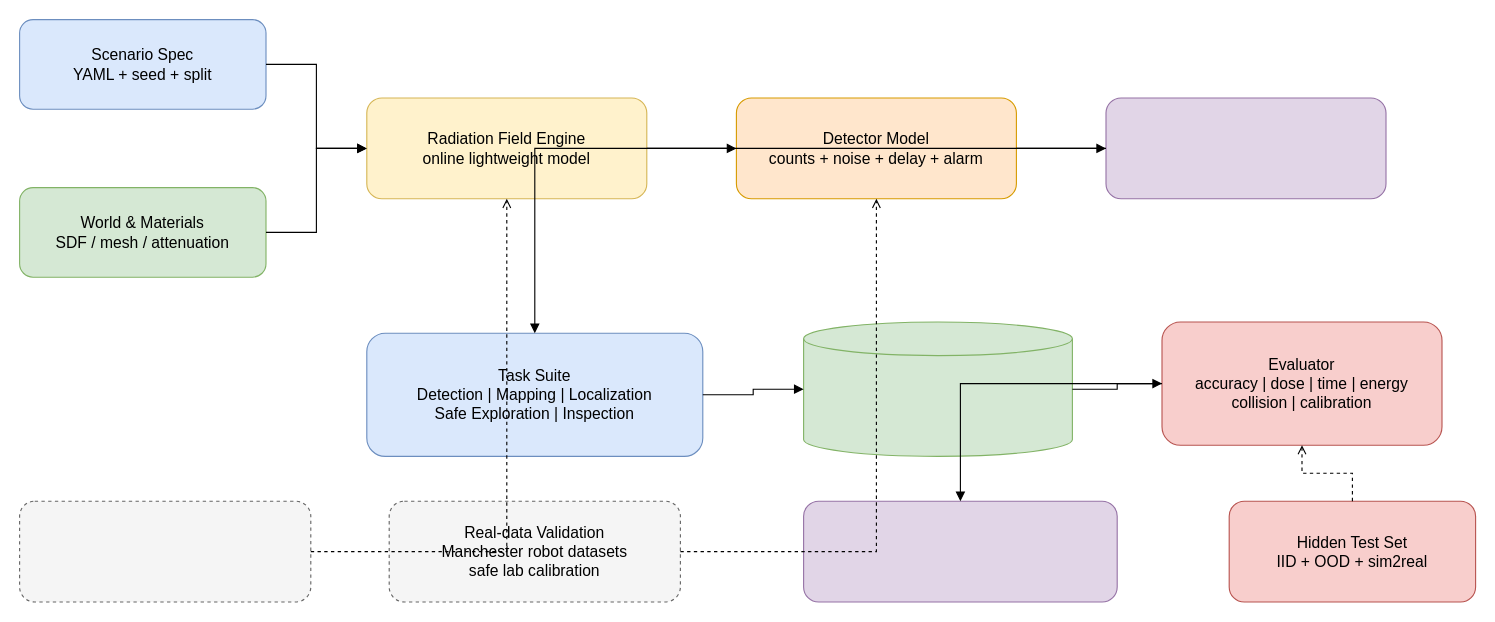
This 1495x622 diagram has some shape labels left out. Each missing label, with the box of its shape:
Baselines & Leaderboard random | frontier | Bayesian | GP: (802, 500, 1117, 602)
Episode Data pose | counts | actions | exposure maps | metadata: (802, 321, 1072, 456)
High-fidelity Calibration OpenMC / Geant4 / NIST XCOM: (18, 500, 311, 602)
Robot + ROS 2 / Python API UGV, sensors, actions: (1105, 97, 1386, 199)
